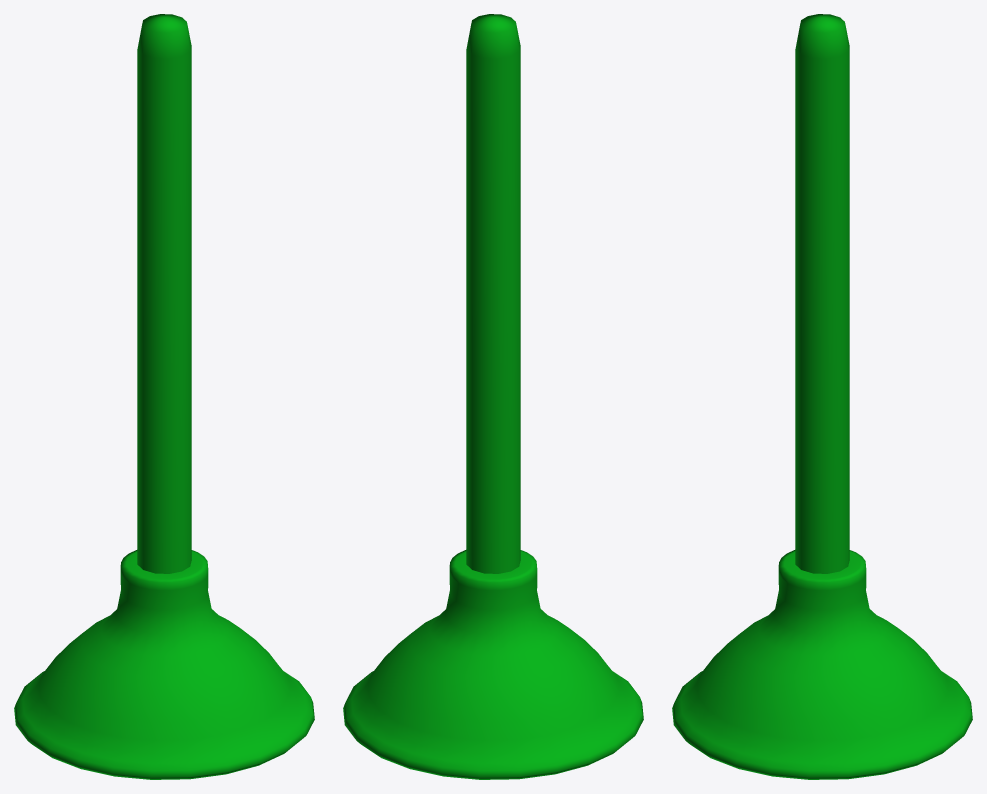
Rendered from Toilet_Rubber.fbx.
The picture shows the model from 3 angles, left to right: view 1: azimuth 30°, elevation 25°; view 2: azimuth 150°, elevation 25°; view 3: azimuth 270°, elevation 25°; orthographic projection.
Parts seen in each view (by area): view 1: Toilet_Rubber; view 2: Toilet_Rubber; view 3: Toilet_Rubber.
Part boxes in pixels (x1,y1,x2,y2): Toilet_Rubber: (14,14,314,779); Toilet_Rubber: (343,14,643,779); Toilet_Rubber: (672,14,972,779).
Bounding box in the file's own units: 150 × 386 × 150.
